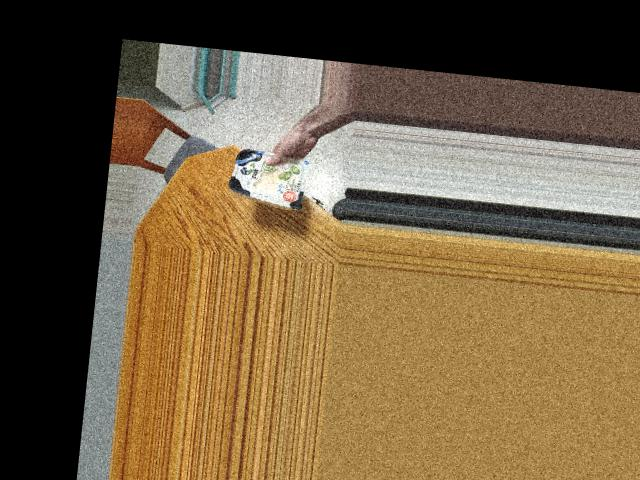cheese: (229, 150, 303, 201)
